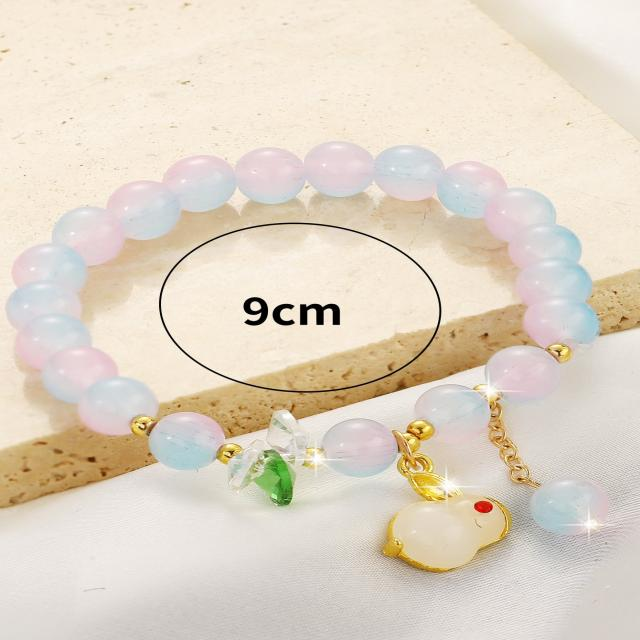bracelet: (0, 92, 640, 588)
